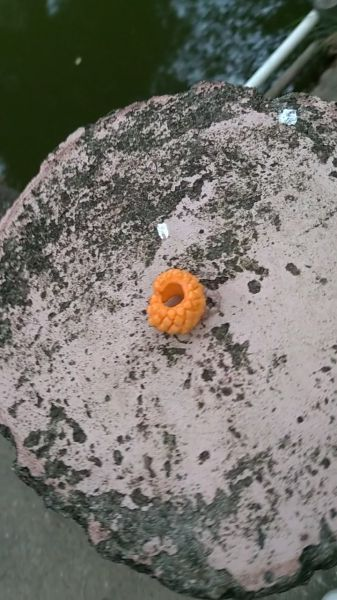eggs: (143, 266, 211, 332)
